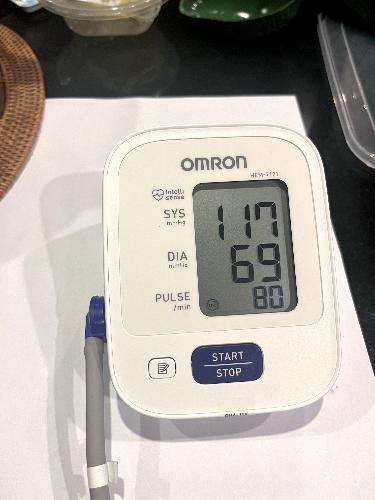bpm: (187, 173, 303, 320)
